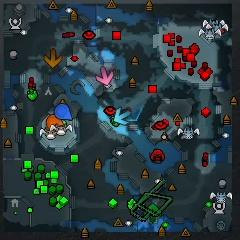p1: (54, 104, 73, 121)
p5: (46, 114, 64, 129)
x1: (96, 66, 113, 85)
x3: (114, 107, 132, 125)
x4: (143, 204, 161, 221)
x5: (44, 49, 62, 68)
